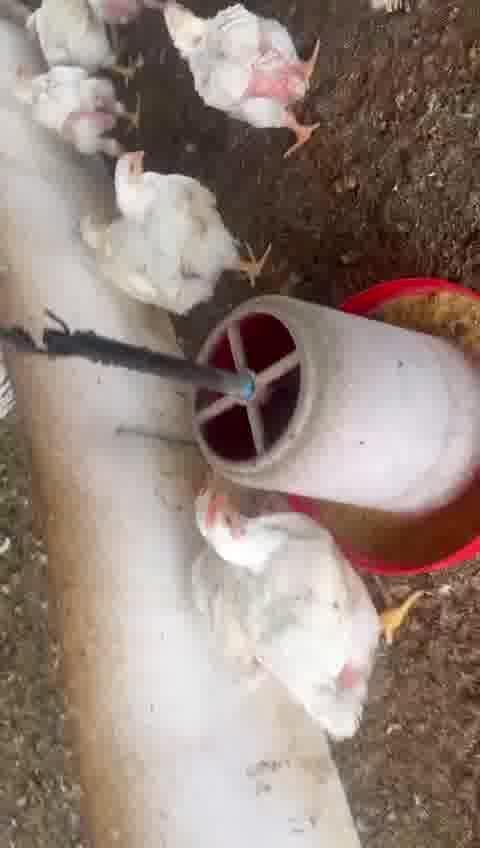Normal: (190, 490, 423, 731), (160, 4, 329, 150), (112, 152, 277, 281), (10, 74, 149, 152)
